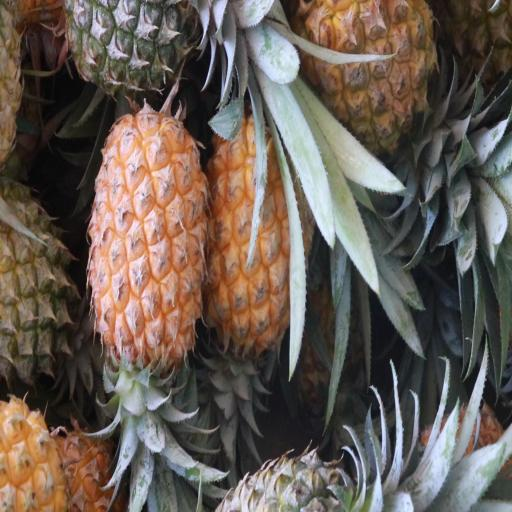Pineapple - v8 v1: (88, 109, 208, 363), (205, 117, 311, 351), (302, 0, 434, 160)
